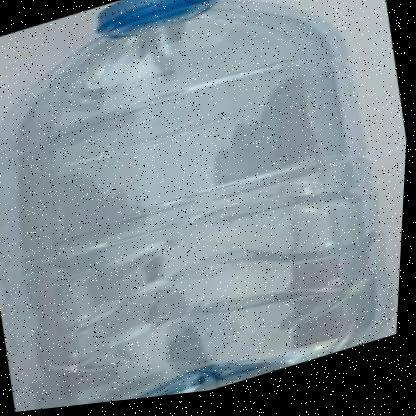bottle cap: (1, 1, 400, 186)
